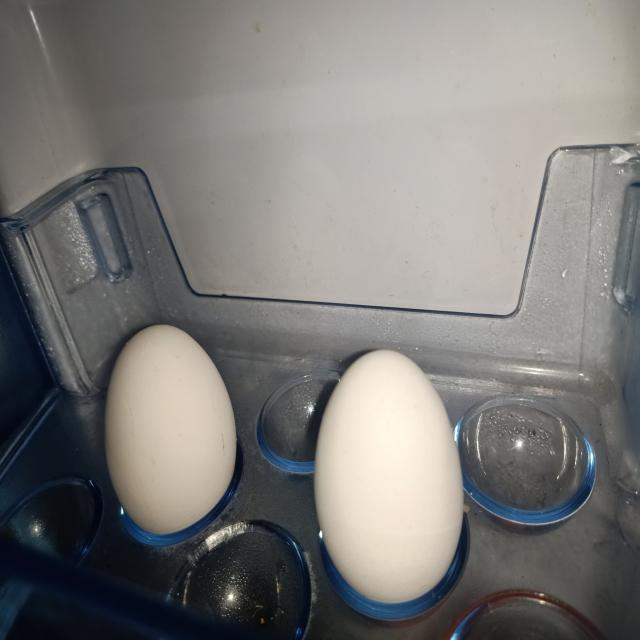Egg: (309, 338, 488, 632), (100, 314, 250, 547)
